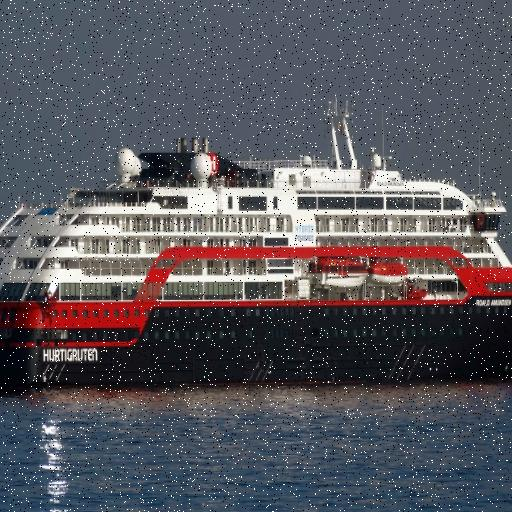cruises: (1, 92, 512, 399)
